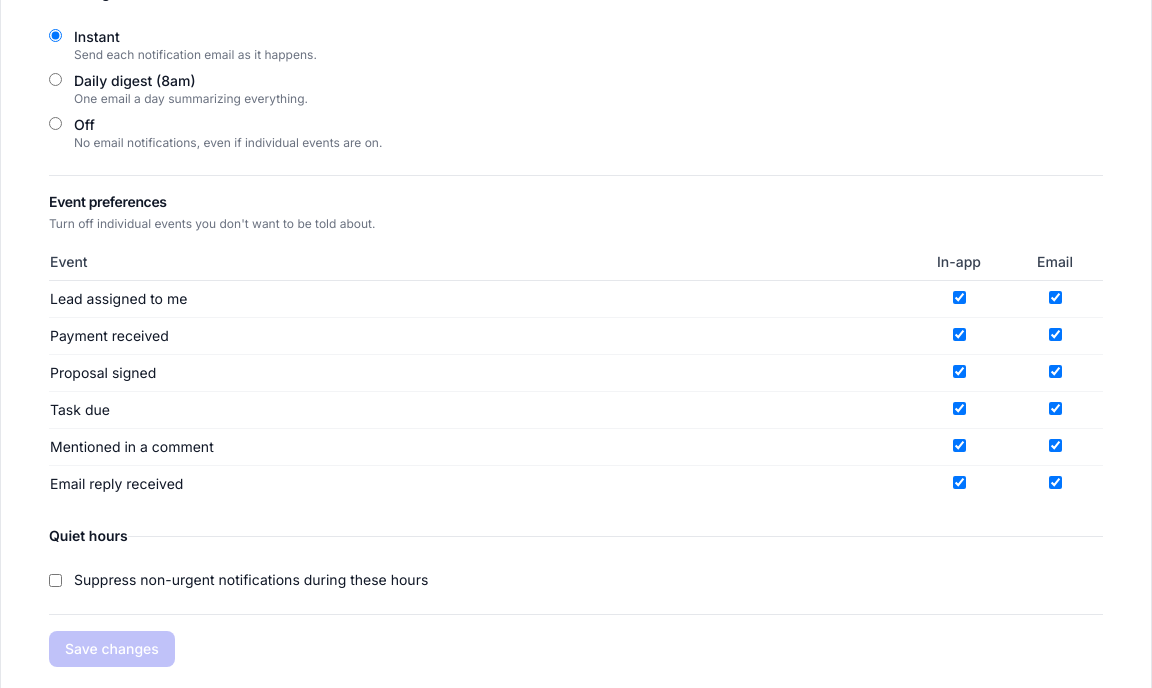
NotificationPreferencesSection › shows quiet-hours time inputs only when toggle is on
This screenshot has width=1152, height=688.
(page scrolled)
expect the field labelled "From" is not shown: met
Step 1. Click the checkbox labelled "Suppress non-urgent notifications during these hours" → (56, 580), box left=49, top=574, right=62, bottom=586
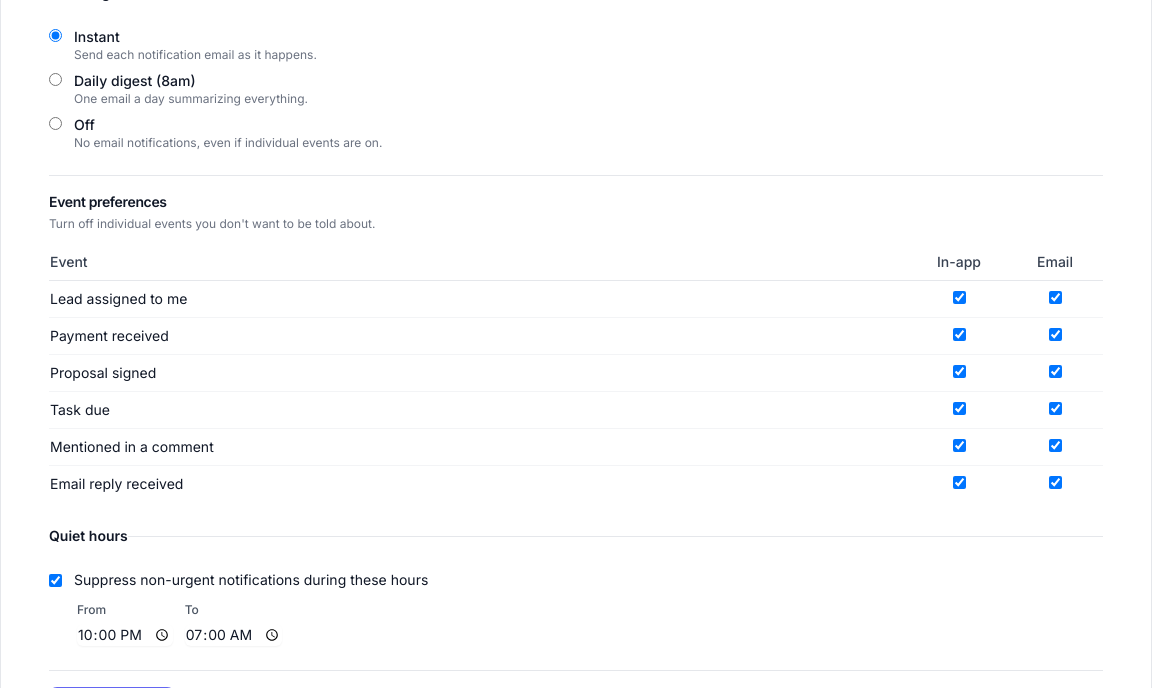
expect the time field labelled "From" is shown: met, box left=77, top=624, right=173, bottom=646
expect the time field labelled "To" is shown: met, box left=185, top=624, right=282, bottom=646
